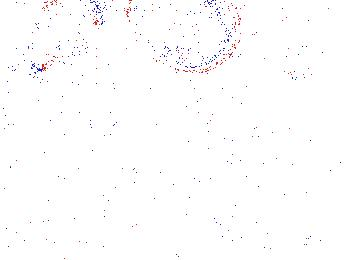moon jellyfish: (127, 1, 242, 73), (267, 1, 346, 78), (20, 1, 101, 71), (96, 1, 146, 83)
